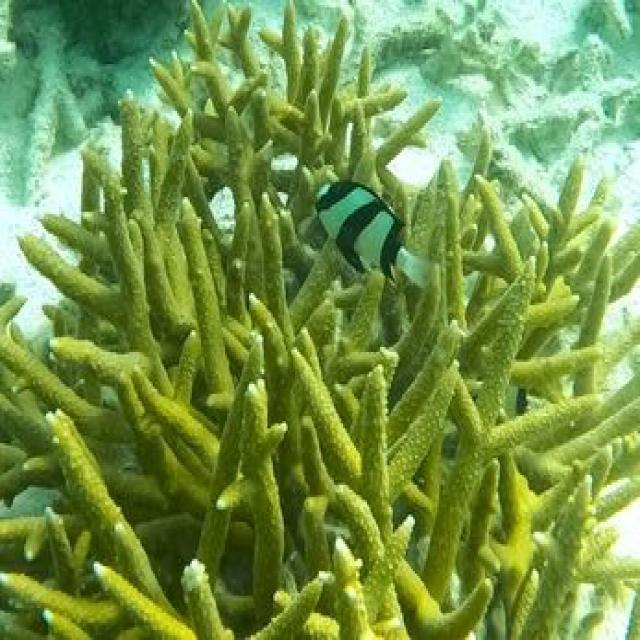Three_striped DasmselFish: (313, 175, 437, 288)
